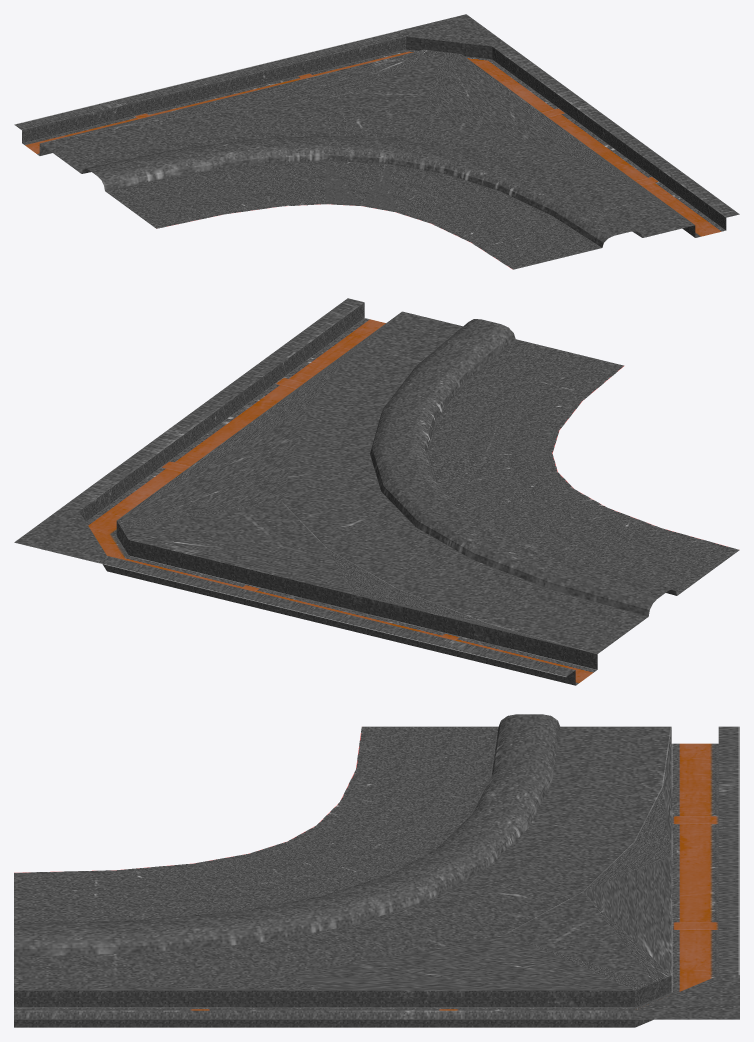
File: InvertCornerPanel.fbx
The picture shows the model from 3 angles, top to bottom: view 1: azimuth 30°, elevation 25°; view 2: azimuth 150°, elevation 25°; view 3: azimuth 270°, elevation 25°; orthographic projection. The views are drawn at different scales.
Visible parts, largest first — view 1: Floor_low.007; view 2: Floor_low.007; view 3: Floor_low.007.
Boxes of the visible parts, x1,y1,x2,y2 form: Floor_low.007: (14,14,739,269); Floor_low.007: (14,298,739,685); Floor_low.007: (14,714,739,1027).
Bounding box in the file's own units: 249 × 11.69 × 261.
